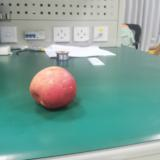apple: (30, 66, 77, 110)
